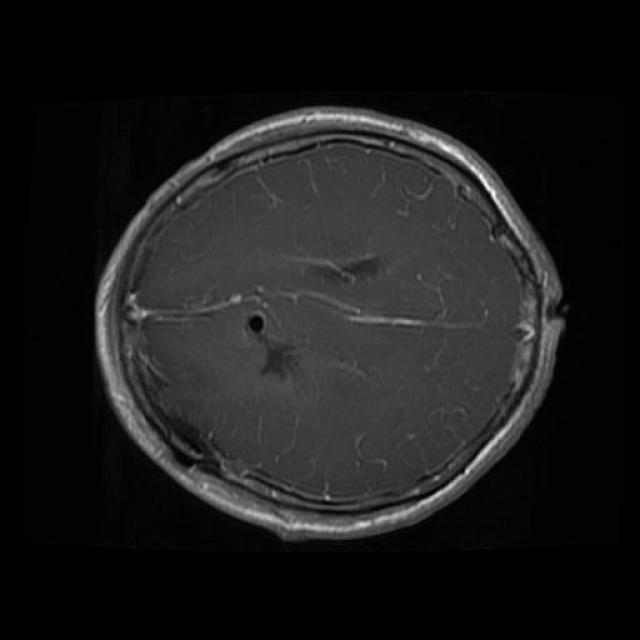Glioma: (244, 310, 292, 379), (140, 350, 170, 385)
